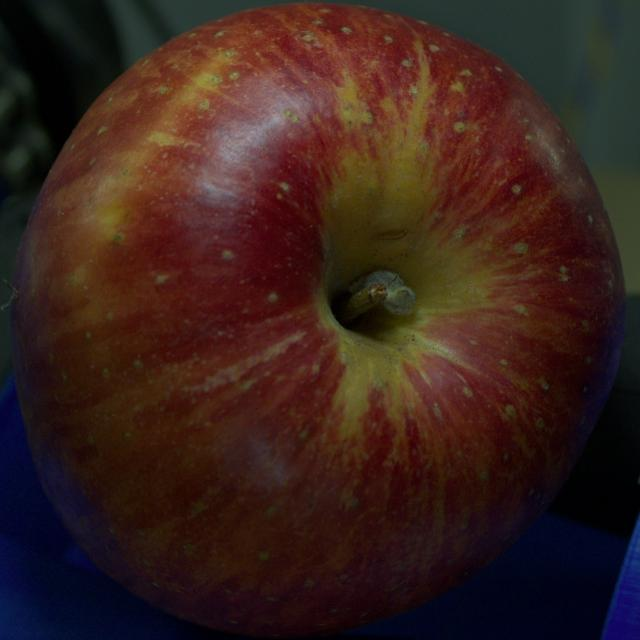apple: (12, 4, 624, 637)
scratch: (369, 229, 407, 241)
